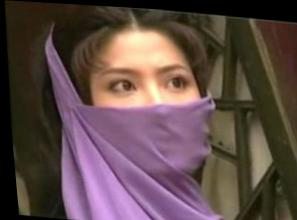WRONG: (77, 47, 212, 179)
